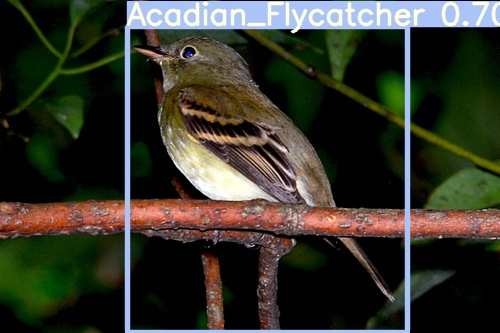Acadian_Flycatcher: (130, 35, 402, 306)
